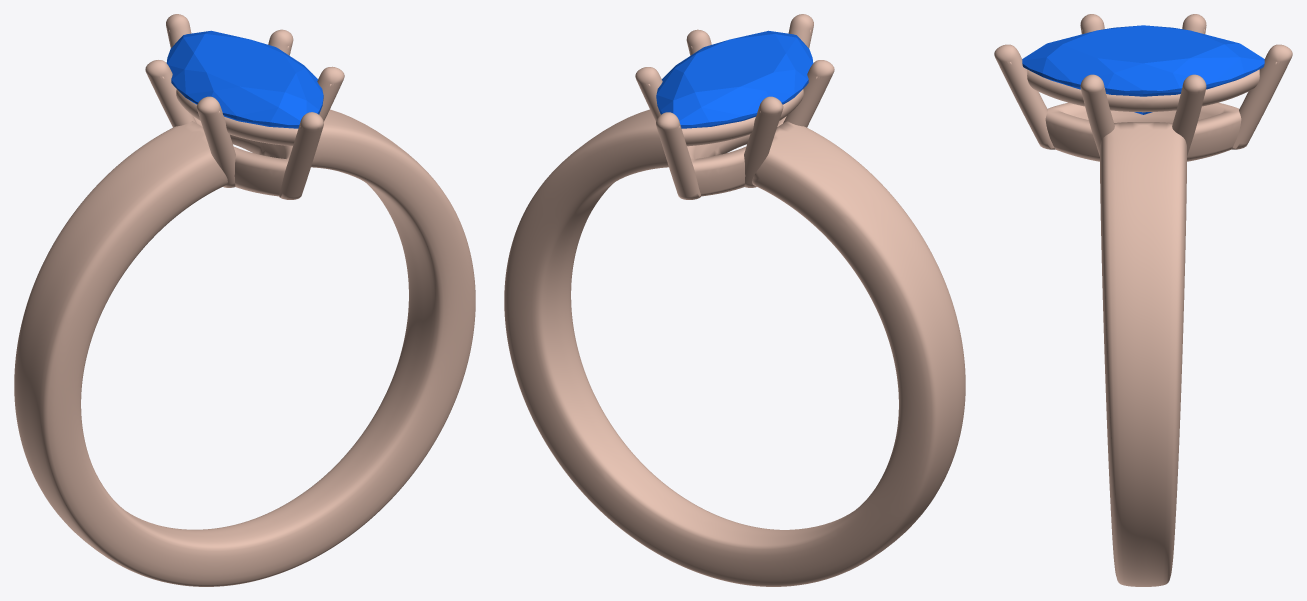
File: bluesapphire-marquise-rosegold-6prong-straighttaperedband-nosidestones.glb
3 renders of one model, left to right at view 1: azimuth 30°, elevation 25°; view 2: azimuth 150°, elevation 25°; view 3: azimuth 270°, elevation 25°, orthographic.
Visible parts, largest first — view 1: metal.001, stone; view 2: metal.001, stone; view 3: metal.001, stone.
Boxes of the visible parts, left/top/right/bottom form: metal.001: left=14, top=14, right=475, bottom=586; stone: left=166, top=30, right=323, bottom=128; metal.001: left=504, top=14, right=965, bottom=586; stone: left=656, top=30, right=813, bottom=128; metal.001: left=994, top=14, right=1292, bottom=586; stone: left=1022, top=25, right=1264, bottom=114.
Bounding box in the file's own units: 20.49 × 22.93 × 11.96.
